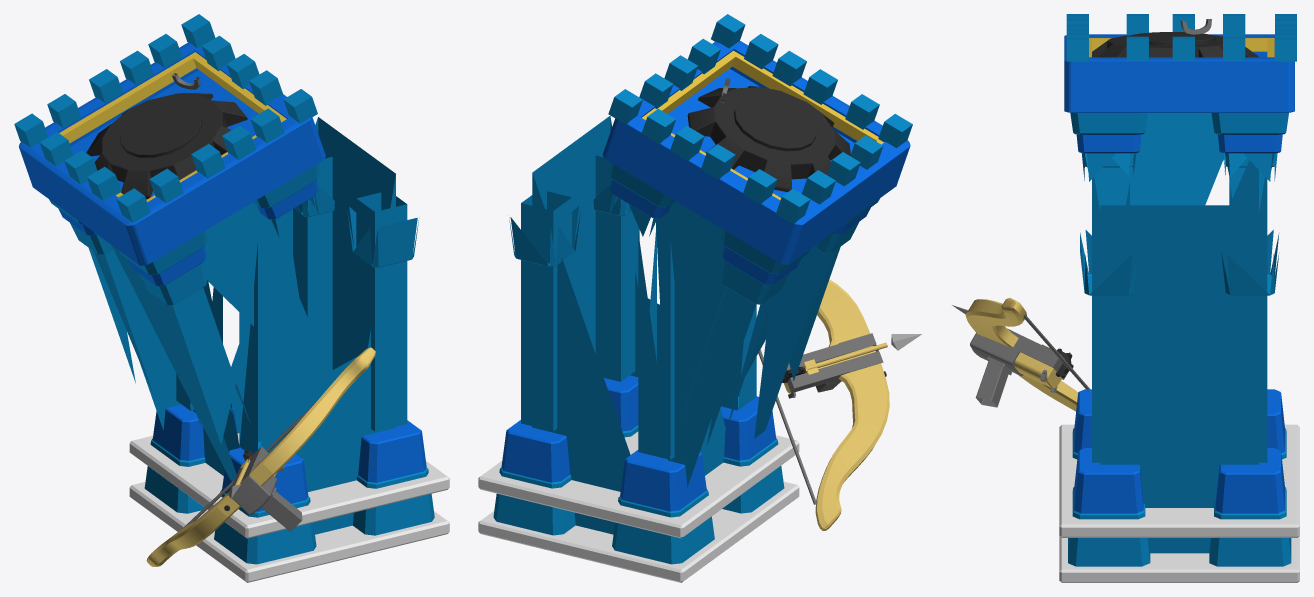
File: Broken archer tower.fbx
3 views of the same model, side by side, from view 1: azimuth 30°, elevation 25°; view 2: azimuth 150°, elevation 25°; view 3: azimuth 270°, elevation 25° (orthographic).
Parts seen in each view (by area): view 1: Broken archer tower; view 2: Broken archer tower; view 3: Broken archer tower.
Boxes of the visible parts, bbox=[...] form: Broken archer tower: bbox=[14, 14, 449, 582]; Broken archer tower: bbox=[478, 14, 921, 582]; Broken archer tower: bbox=[952, 14, 1299, 582].
Size of the model in its own units: 173 by 242 by 160.
